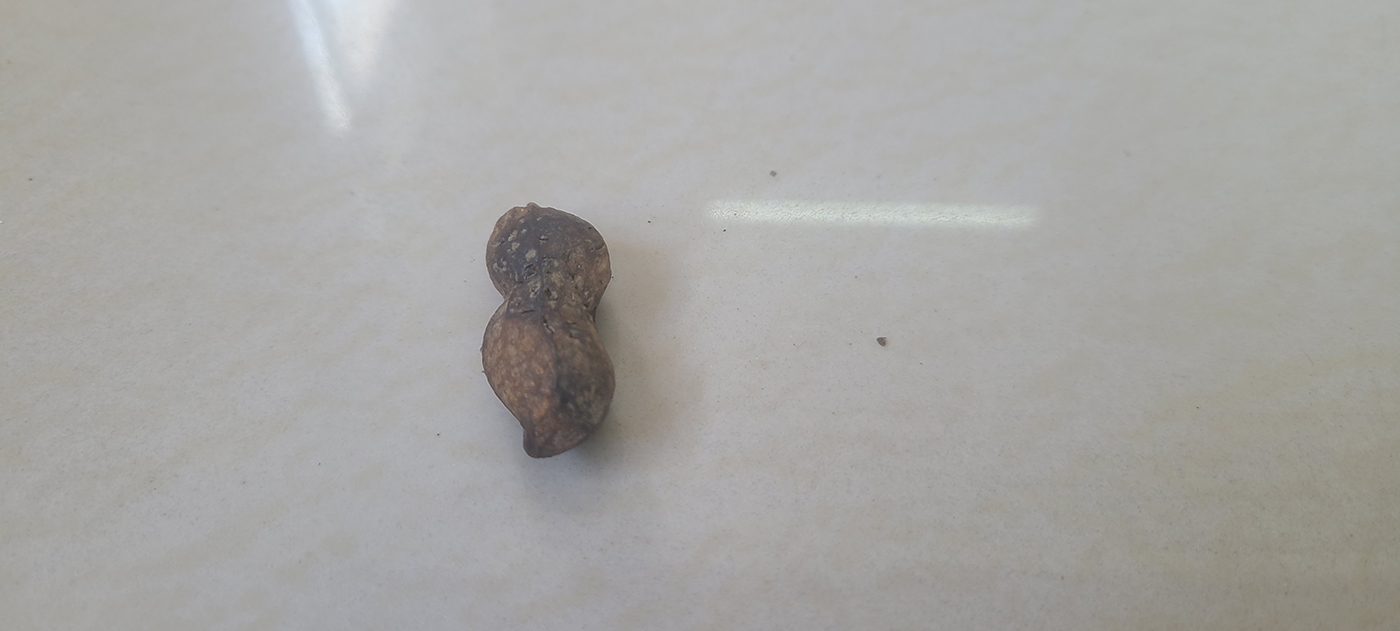l: (481, 202, 616, 459)
